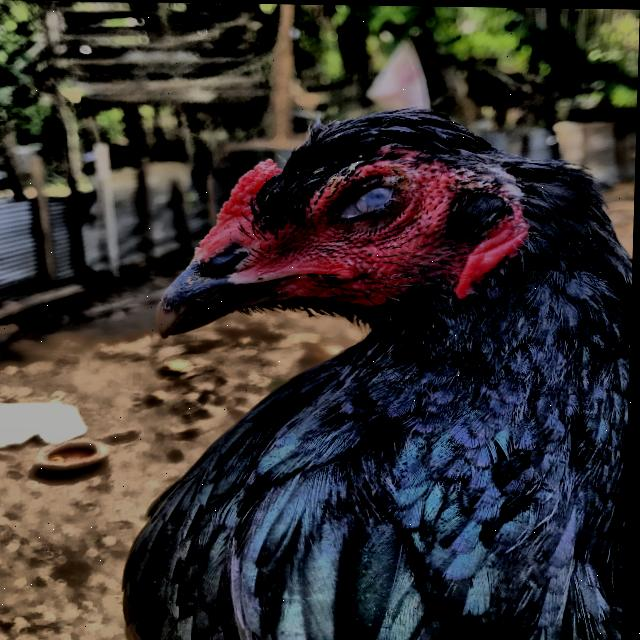Coryza: (135, 96, 638, 640)
